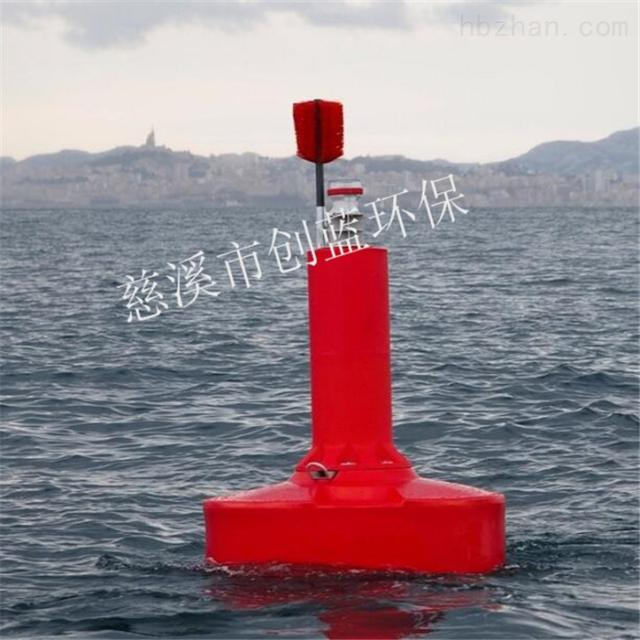buoy: (196, 94, 512, 574)
